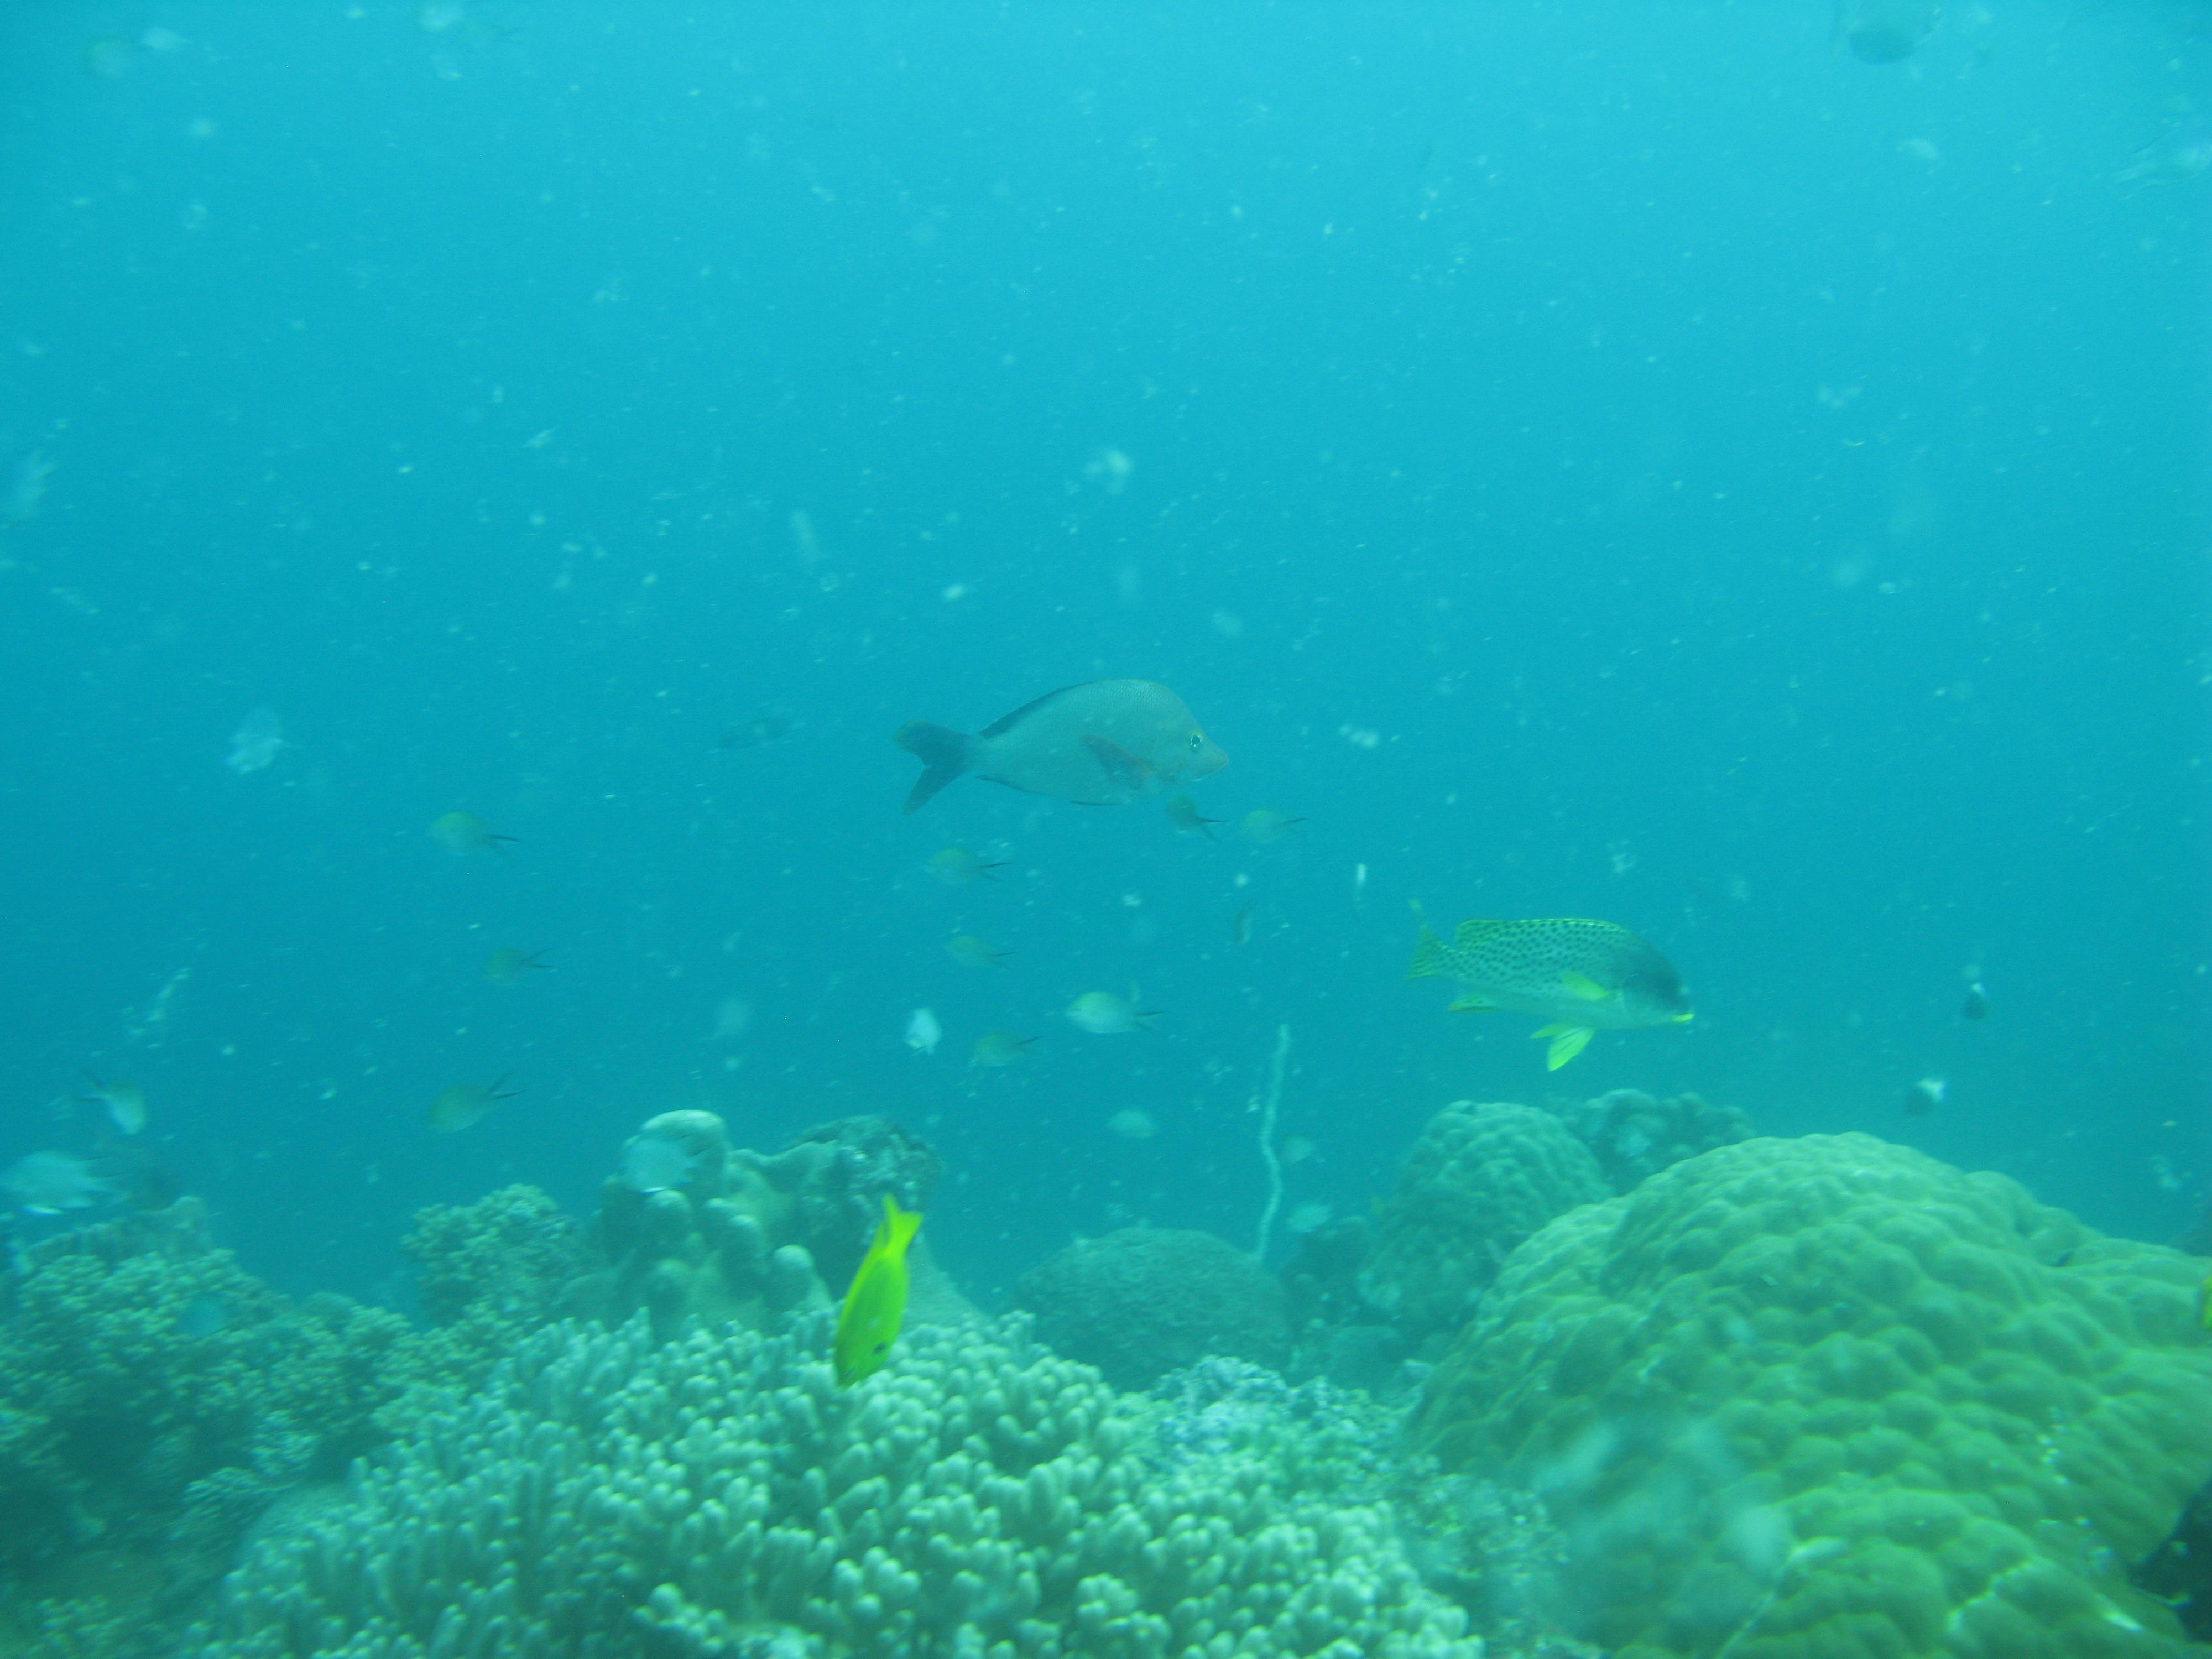Fish: (1406, 910, 1712, 1065)
